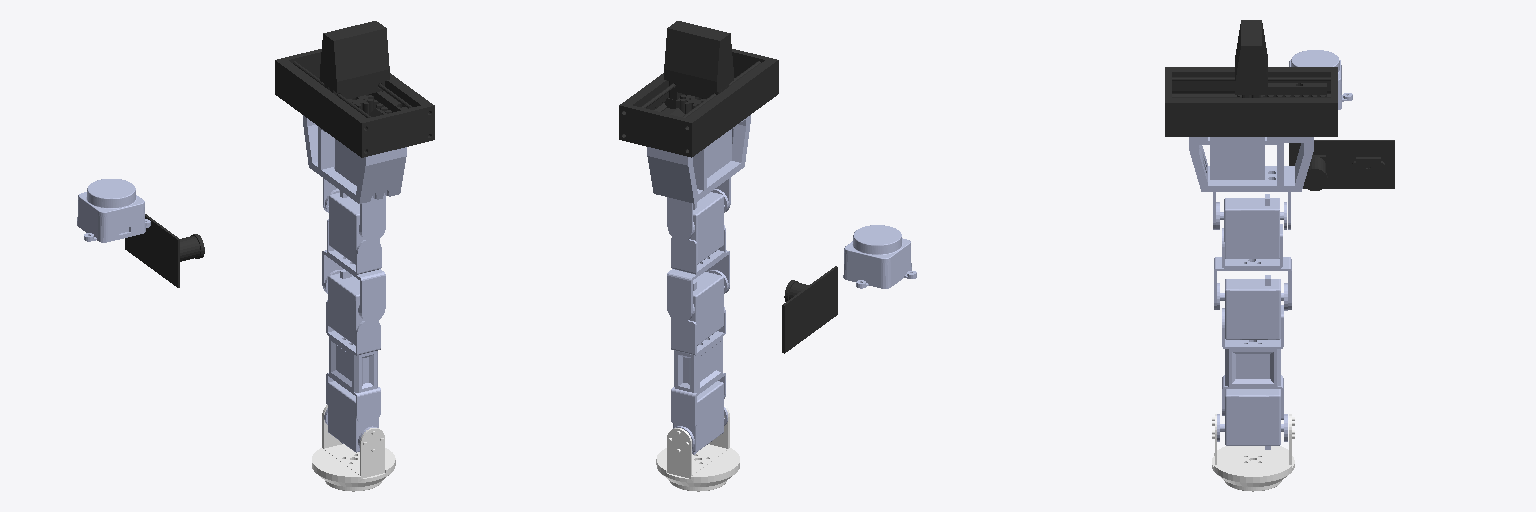
robot.urdf — wilson:
<?xml version="1.0" encoding="utf-8"?>
<!-- This URDF was automatically created by SolidWorks to URDF Exporter! Originally created by [author] ([email redacted]) 
     Commit Version: 1.6.0-4-g7f85cfe  Build Version: 1.6.7995.38578
     For more information, please see http://wiki.ros.org/sw_urdf_exporter -->
<robot
  name="wilson">
  <link
    name="base_link">
    <inertial>
      <origin
        xyz="0.07097 -0.00089885 0.11258"
        rpy="0 0 0" />
      <mass
        value="7.2003" />
      <inertia
        ixx="0.017986"
        ixy="0.0006756"
        ixz="0.00083241"
        iyy="0.020129"
        iyz="-8.9186E-05"
        izz="0.026466" />
    </inertial>
    <visual>
      <origin
        xyz="0 0 0"
        rpy="0 0 0" />
      <geometry>
        <mesh
          filename="package://wilson/meshes/base_link.STL" />
      </geometry>
      <material
        name="">
        <color
          rgba="0.79216 0.81961 0.93333 1" />
      </material>
    </visual>
    <collision>
      <origin
        xyz="0 0 0"
        rpy="0 0 0" />
      <geometry>
        <mesh
          filename="package://wilson/meshes/base_link.STL" />
      </geometry>
    </collision>
  </link>
  <link
    name="laser_frame">
    <inertial>
      <origin
        xyz="-2.1176E-07 -4.0923E-05 -0.011888"
        rpy="0 0 0" />
      <mass
        value="0.041194" />
      <inertia
        ixx="5.4479E-06"
        ixy="9.7064E-14"
        ixz="5.3555E-11"
        iyy="5.5226E-06"
        iyz="8.257E-09"
        izz="9.1788E-06" />
    </inertial>
    <visual>
      <origin
        xyz="0 0 0"
        rpy="0 0 0" />
      <geometry>
        <mesh
          filename="package://wilson/meshes/laser_frame.STL" />
      </geometry>
      <material
        name="">
        <color
          rgba="0.79216 0.81961 0.93333 1" />
      </material>
    </visual>
    <collision>
      <origin
        xyz="0 0 0"
        rpy="0 0 0" />
      <geometry>
        <mesh
          filename="package://wilson/meshes/laser_frame.STL" />
      </geometry>
    </collision>
  </link>
  <joint
    name="laser_joint"
    type="fixed">
    <origin
      xyz="0.028815 0.00026069 0.30272"
      rpy="0 0 0" />
    <parent
      link="base_link" />
    <child
      link="laser_frame" />
    <axis
      xyz="0 0 0" />
    <mimic
      joint="gripper_left_finger_joint"
      multiplier="1"
      offset="0" />
  </joint>
  <link
    name="camera_link">
    <inertial>
      <origin
        xyz="-0.017796 0 -5.5511E-17"
        rpy="0 0 0" />
      <mass
        value="0.0084406" />
      <inertia
        ixx="8.8741E-07"
        ixy="1.319E-22"
        ixz="-5.0892E-22"
        iyy="1.1543E-06"
        iyz="-2.074E-22"
        izz="1.1543E-06" />
    </inertial>
    <visual>
      <origin
        xyz="0 0 0"
        rpy="0 0 0" />
      <geometry>
        <mesh
          filename="package://wilson/meshes/camera_link.STL" />
      </geometry>
      <material
        name="">
        <color
          rgba="0.25098 0.25098 0.25098 1" />
      </material>
    </visual>
    <collision>
      <origin
        xyz="0 0 0"
        rpy="0 0 0" />
      <geometry>
        <mesh
          filename="package://wilson/meshes/camera_link.STL" />
      </geometry>
    </collision>
  </link>
  <joint
    name="camera_joint"
    type="fixed">
    <origin
      xyz="0.10065 0.00016353 0.24572"
      rpy="0 0 0" />
    <parent
      link="base_link" />
    <child
      link="camera_link" />
    <axis
      xyz="0 0 0" />
  </joint>
  <link
    name="depth_camera_link">
    <inertial>
      <origin
        xyz="-0.0035178 2.6724E-05 0"
        rpy="0 0 0" />
      <mass
        value="0.0035923" />
      <inertia
        ixx="7.2887E-07"
        ixy="-2.8971E-10"
        ixz="-3.3403E-23"
        iyy="3.6036E-07"
        iyz="-3.7283E-23"
        izz="3.7832E-07" />
    </inertial>
    <visual>
      <origin
        xyz="0 0 0"
        rpy="0 0 0" />
      <geometry>
        <mesh
          filename="package://wilson/meshes/depth_camera_link.STL" />
      </geometry>
      <material
        name="">
        <color
          rgba="0.25098 0.25098 0.25098 1" />
      </material>
    </visual>
    <collision>
      <origin
        xyz="0 0 0"
        rpy="0 0 0" />
      <geometry>
        <mesh
          filename="package://wilson/meshes/depth_camera_link.STL" />
      </geometry>
    </collision>
  </link>
  <joint
    name="depth_camera_joint"
    type="fixed">
    <origin
      xyz="0.07765 0.038164 0.24572"
      rpy="0 0 0" />
    <parent
      link="base_link" />
    <child
      link="depth_camera_link" />
    <axis
      xyz="0 0 0" />
  </joint>
  <link
    name="link_1">
    <inertial>
      <origin
        xyz="0 0 0"
        rpy="0 0 0" />
      <mass
        value="0" />
      <inertia
        ixx="0"
        ixy="0"
        ixz="0"
        iyy="0"
        iyz="0"
        izz="0" />
    </inertial>
    <visual>
      <origin
        xyz="0 0 0"
        rpy="0 0 0" />
      <geometry>
        <mesh
          filename="package://wilson/meshes/link_1.STL" />
      </geometry>
      <material
        name="">
        <color
          rgba="1 1 1 1" />
      </material>
    </visual>
    <collision>
      <origin
        xyz="0 0 0"
        rpy="0 0 0" />
      <geometry>
        <mesh
          filename="package://wilson/meshes/link_1.STL" />
      </geometry>
    </collision>
  </link>
  <joint
    name="joint_1"
    type="revolute">
    <origin
      xyz="0.20284 -0.0445 0.055968"
      rpy="0 0 0" />
    <parent
      link="base_link" />
    <child
      link="link_1" />
    <axis
      xyz="0 0 1" />
    <limit
      lower="-2.3562"
      upper="2.3562"
      effort="0"
      velocity="0" />
  </joint>
  <link
    name="link_2">
    <inertial>
      <origin
        xyz="0.052 1.1102E-16 -4.8862E-05"
        rpy="0 0 0" />
      <mass
        value="0.092908" />
      <inertia
        ixx="1.8027E-05"
        ixy="-5.0835E-12"
        ixz="-3.4406E-22"
        iyy="2.6081E-05"
        iyz="7.6203E-20"
        izz="1.3913E-05" />
    </inertial>
    <visual>
      <origin
        xyz="0 0 0"
        rpy="0 0 0" />
      <geometry>
        <mesh
          filename="package://wilson/meshes/link_2.STL" />
      </geometry>
      <material
        name="">
        <color
          rgba="0.79216 0.81961 0.93333 1" />
      </material>
    </visual>
    <collision>
      <origin
        xyz="0 0 0"
        rpy="0 0 0" />
      <geometry>
        <mesh
          filename="package://wilson/meshes/link_2.STL" />
      </geometry>
    </collision>
  </link>
  <joint
    name="joint_2"
    type="revolute">
    <origin
      xyz="0 -0.0002 0.041"
      rpy="1.5708 -1.5708 0" />
    <parent
      link="link_1" />
    <child
      link="link_2" />
    <axis
      xyz="0 0 -1" />
    <limit
      lower="-2.3562"
      upper="2.3562"
      effort="0"
      velocity="0" />
  </joint>
  <link
    name="link_3">
    <inertial>
      <origin
        xyz="0.048456 4.4264E-09 0.00016422"
        rpy="0 0 0" />
      <mass
        value="0.04259" />
      <inertia
        ixx="1.0479E-05"
        ixy="-2.5418E-12"
        ixz="5.8294E-08"
        iyy="1.4519E-05"
        iyz="-7.3801E-13"
        izz="6.8191E-06" />
    </inertial>
    <visual>
      <origin
        xyz="0 0 0"
        rpy="0 0 0" />
      <geometry>
        <mesh
          filename="package://wilson/meshes/link_3.STL" />
      </geometry>
      <material
        name="">
        <color
          rgba="0.79216 0.81961 0.93333 1" />
      </material>
    </visual>
    <collision>
      <origin
        xyz="0 0 0"
        rpy="0 0 0" />
      <geometry>
        <mesh
          filename="package://wilson/meshes/link_3.STL" />
      </geometry>
    </collision>
  </link>
  <joint
    name="joint_3"
    type="revolute">
    <origin
      xyz="0.10355 0 0.00025"
      rpy="0 0 0" />
    <parent
      link="link_2" />
    <child
      link="link_3" />
    <axis
      xyz="0 0 -1" />
    <limit
      lower="-2.3562"
      upper="2.3562"
      effort="0"
      velocity="0" />
  </joint>
  <link
    name="link_4">
    <inertial>
      <origin
        xyz="0.051407 -1.2493E-05 0.00067072"
        rpy="0 0 0" />
      <mass
        value="0.088822" />
      <inertia
        ixx="5.9516E-05"
        ixy="-1.66E-10"
        ixz="2.2283E-06"
        iyy="7.3946E-05"
        iyz="-1.2305E-09"
        izz="2.67E-05" />
    </inertial>
    <visual>
      <origin
        xyz="0 0 0"
        rpy="0 0 0" />
      <geometry>
        <mesh
          filename="package://wilson/meshes/link_4.STL" />
      </geometry>
      <material
        name="">
        <color
          rgba="0.79216 0.81961 0.93333 1" />
      </material>
    </visual>
    <collision>
      <origin
        xyz="0 0 0"
        rpy="0 0 0" />
      <geometry>
        <mesh
          filename="package://wilson/meshes/link_4.STL" />
      </geometry>
    </collision>
  </link>
  <joint
    name="joint_4"
    type="revolute">
    <origin
      xyz="0.0639 0 0.0005"
      rpy="0 0 0" />
    <parent
      link="link_3" />
    <child
      link="link_4" />
    <axis
      xyz="0 0 -1" />
    <limit
      lower="-2.3562"
      upper="2.3562"
      effort="0"
      velocity="0" />
  </joint>
  <link
    name="gripper_base">
    <inertial>
      <origin
        xyz="0.010715 1.0389E-05 1.8295E-05"
        rpy="0 0 0" />
      <mass
        value="0.1047" />
      <inertia
        ixx="0.00012973"
        ixy="-6.8552E-09"
        ixz="-8.4335E-10"
        iyy="9.4298E-05"
        iyz="9.6632E-09"
        izz="4.7314E-05" />
    </inertial>
    <visual>
      <origin
        xyz="0 0 0"
        rpy="0 0 0" />
      <geometry>
        <mesh
          filename="package://wilson/meshes/gripper_base.STL" />
      </geometry>
      <material
        name="">
        <color
          rgba="0.25098 0.25098 0.25098 1" />
      </material>
    </visual>
    <collision>
      <origin
        xyz="0 0 0"
        rpy="0 0 0" />
      <geometry>
        <mesh
          filename="package://wilson/meshes/gripper_base.STL" />
      </geometry>
    </collision>
  </link>
  <joint
    name="gripper_base_joint"
    type="fixed">
    <origin
      xyz="0.077347 -0.00023665 0.00025"
      rpy="0 0 0" />
    <parent
      link="link_4" />
    <child
      link="gripper_base" />
    <axis
      xyz="0 0 0" />
  </joint>
  <link
    name="gripper_left_finger">
    <inertial>
      <origin
        xyz="0.013473 0.0020475 0.001721"
        rpy="0 0 0" />
      <mass
        value="0.02298" />
      <inertia
        ixx="6.2762E-06"
        ixy="5.3005E-07"
        ixz="-5.6448E-07"
        iyy="4.6087E-06"
        iyz="9.4001E-07"
        izz="6.0257E-06" />
    </inertial>
    <visual>
      <origin
        xyz="0 0 0"
        rpy="0 0 0" />
      <geometry>
        <mesh
          filename="package://wilson/meshes/gripper_left_finger.STL" />
      </geometry>
      <material
        name="">
        <color
          rgba="0.25098 0.25098 0.25098 1" />
      </material>
    </visual>
    <collision>
      <origin
        xyz="0 0 0"
        rpy="0 0 0" />
      <geometry>
        <mesh
          filename="package://wilson/meshes/gripper_left_finger.STL" />
      </geometry>
    </collision>
  </link>
  <joint
    name="gripper_left_finger_joint"
    type="prismatic">
    <origin
      xyz="0.0272 0 0"
      rpy="0 0 0" />
    <parent
      link="gripper_base" />
    <child
      link="gripper_left_finger" />
    <axis
      xyz="0 0 1" />
    <limit
      lower="0"
      upper="0.05"
      effort="0"
      velocity="0" />
  </joint>
  <link
    name="gripper_right_finger">
    <inertial>
      <origin
        xyz="0.013473 -0.0020475 -0.001721"
        rpy="0 0 0" />
      <mass
        value="0.02298" />
      <inertia
        ixx="6.2762E-06"
        ixy="-5.3005E-07"
        ixz="5.6448E-07"
        iyy="4.6087E-06"
        iyz="9.4001E-07"
        izz="6.0257E-06" />
    </inertial>
    <visual>
      <origin
        xyz="0 0 0"
        rpy="0 0 0" />
      <geometry>
        <mesh
          filename="package://wilson/meshes/gripper_right_finger.STL" />
      </geometry>
      <material
        name="">
        <color
          rgba="0.25098 0.25098 0.25098 1" />
      </material>
    </visual>
    <collision>
      <origin
        xyz="0 0 0"
        rpy="0 0 0" />
      <geometry>
        <mesh
          filename="package://wilson/meshes/gripper_right_finger.STL" />
      </geometry>
    </collision>
  </link>
  <joint
    name="gripper_right_finger_joint"
    type="prismatic">
    <origin
      xyz="0.0272 0 0"
      rpy="0 0 0" />
    <parent
      link="gripper_base" />
    <child
      link="gripper_right_finger" />
    <axis
      xyz="0 0 1" />
    <limit
      lower="0"
      upper="0"
      effort="0"
      velocity="0" />
    <mimic
      joint="gripper_left_finger_joint"
      multiplier="-1"
      offset="0" />
  </joint>
</robot>

--- Render facts (derived) ---
Views: 3 orthographic renders of the robot side by side, from view 1: azimuth 30°, elevation 25°; view 2: azimuth 150°, elevation 25°; view 3: azimuth 270°, elevation 25°.
Model wilson with 11 links and 10 joints (4 revolute, 2 prismatic, 4 fixed), rooted at base_link, posed all joints at 0.
Visible links, largest first — view 1: gripper_base, link_2, link_4, link_3, gripper_left_finger, link_1, laser_frame, camera_link, gripper_right_finger, depth_camera_link; view 2: gripper_base, link_2, link_4, link_3, gripper_right_finger, link_1, laser_frame, camera_link, depth_camera_link, gripper_left_finger; view 3: gripper_base, link_2, link_4, link_3, link_1, depth_camera_link, gripper_left_finger, camera_link, gripper_right_finger, laser_frame.
Boxes of the visible links, bbox=[...] form: gripper_base: bbox=[275, 49, 434, 157]; link_2: bbox=[324, 269, 380, 452]; link_4: bbox=[303, 115, 406, 241]; link_3: bbox=[322, 189, 385, 322]; gripper_left_finger: bbox=[328, 24, 389, 98]; link_1: bbox=[312, 405, 395, 491]; laser_frame: bbox=[77, 179, 150, 242]; camera_link: bbox=[151, 220, 204, 287]; gripper_right_finger: bbox=[320, 21, 407, 111]; depth_camera_link: bbox=[125, 214, 152, 267]; gripper_base: bbox=[619, 49, 778, 157]; link_2: bbox=[671, 270, 728, 454]; link_4: bbox=[647, 115, 750, 241]; link_3: bbox=[667, 189, 729, 322]; gripper_right_finger: bbox=[664, 24, 724, 99]; link_1: bbox=[656, 404, 739, 491]; laser_frame: bbox=[843, 225, 916, 288]; camera_link: bbox=[784, 266, 837, 333]; depth_camera_link: bbox=[782, 286, 810, 353]; gripper_left_finger: bbox=[673, 21, 733, 89]; gripper_base: bbox=[1165, 67, 1337, 136]; link_2: bbox=[1217, 275, 1287, 449]; link_4: bbox=[1189, 137, 1313, 229]; link_3: bbox=[1214, 194, 1291, 309]; link_1: bbox=[1212, 414, 1294, 491]; depth_camera_link: bbox=[1342, 140, 1394, 188]; gripper_left_finger: bbox=[1235, 20, 1326, 97]; camera_link: bbox=[1289, 140, 1341, 190]; gripper_right_finger: bbox=[1252, 20, 1267, 97]; laser_frame: bbox=[1289, 50, 1352, 109].
Bounding box of the posed robot: 0.2314 × 0.1649 × 0.354 m (x, y, z).
Meshes: 11 distinct files referenced, 10 mesh visuals loaded (10 binary STL); not drawn: 1 (reference not matched to a file when rendering).
